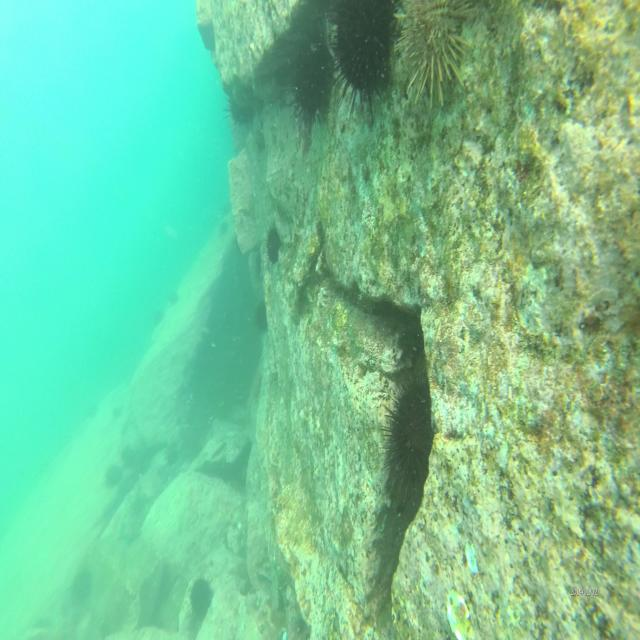echinus: (378, 367, 444, 501), (398, 0, 476, 109), (330, 1, 396, 123), (284, 26, 333, 128), (223, 90, 256, 132), (188, 578, 214, 614), (264, 220, 282, 265), (71, 566, 93, 597), (255, 302, 272, 335), (118, 443, 136, 470), (105, 461, 121, 486)
